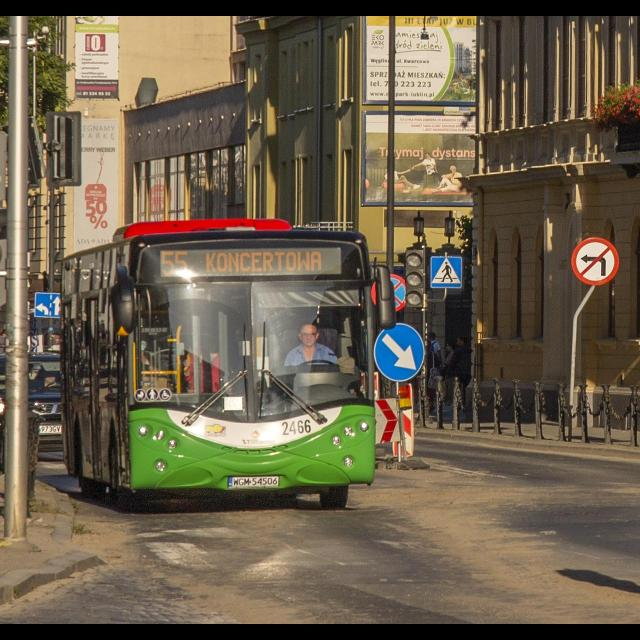Bus: (60, 218, 376, 510)
